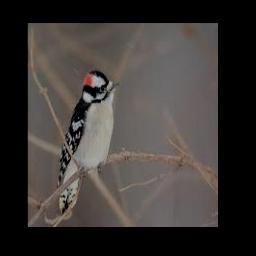Woodpecker: (57, 70, 119, 215)
